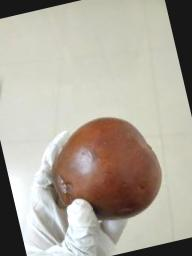Apple Rotten: (29, 108, 188, 242)
